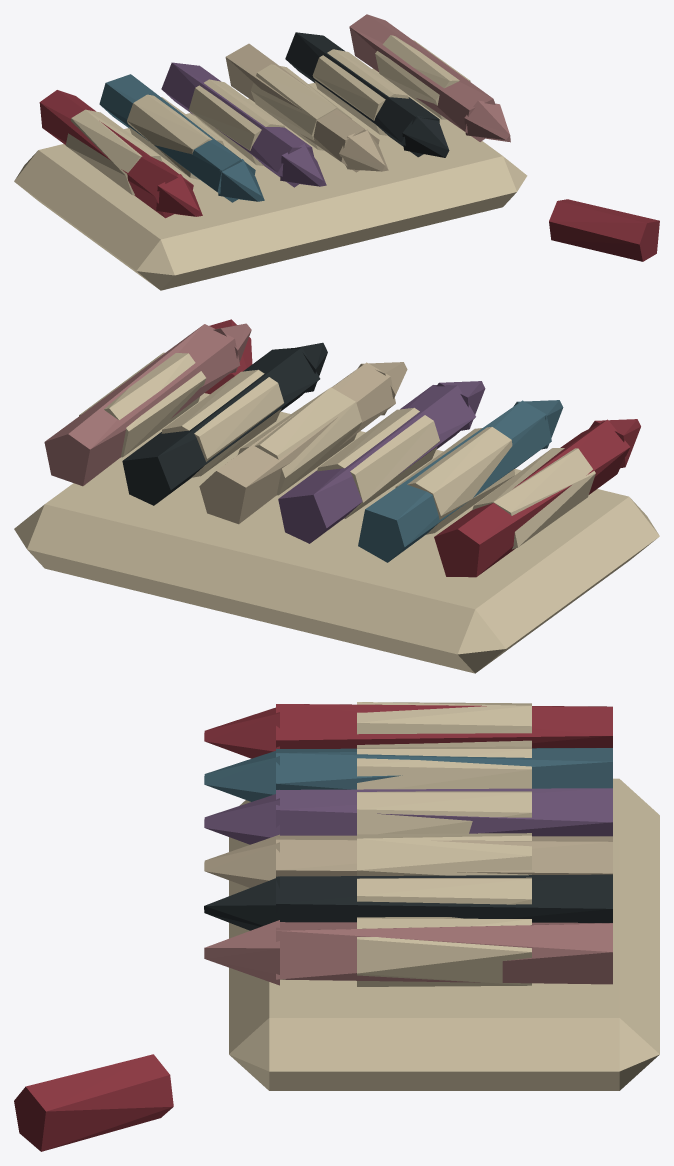
Rendered from wax_crayons.glb.
3 views of the same model, one above another, from view 1: azimuth 30°, elevation 25°; view 2: azimuth 150°, elevation 25°; view 3: azimuth 270°, elevation 25° (orthographic). The views are drawn at different scales.
Parts seen in each view (by area): view 1: wax_crayons; view 2: wax_crayons; view 3: wax_crayons.
Part boxes in pixels (x1,y1,x2,y2): wax_crayons: [14, 14, 659, 290]; wax_crayons: [14, 319, 659, 673]; wax_crayons: [14, 702, 659, 1151].
Bounding box in the file's own units: 0.2735 × 0.0699 × 0.2397.
